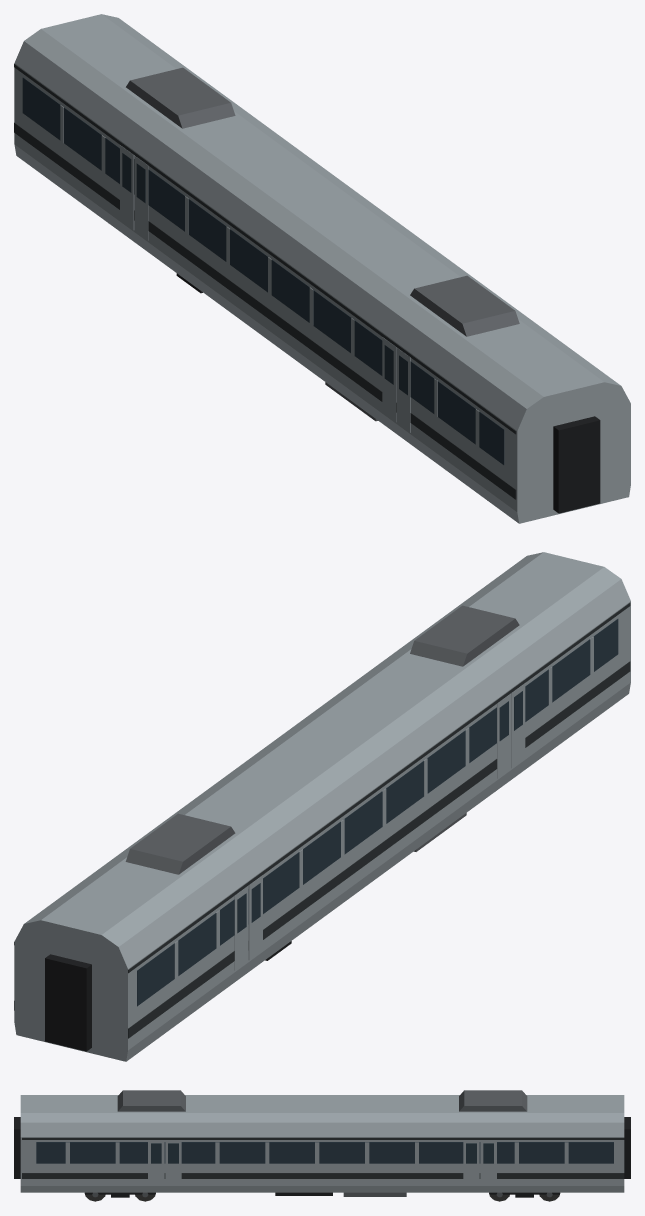
File: carriage_mid.glb
The picture shows the model from 3 angles, top to bottom: view 1: azimuth 30°, elevation 25°; view 2: azimuth 150°, elevation 25°; view 3: azimuth 270°, elevation 25°; orthographic projection. The views are drawn at different scales.
Visible parts, largest first — view 1: CarriageMid, DoorsL; view 2: CarriageMid, DoorsL; view 3: CarriageMid, DoorsR.
Boxes of the visible parts, x1,y1,x2,y2 form: CarriageMid: (14, 14, 630, 523); DoorsL: (120, 145, 410, 432); CarriageMid: (14, 552, 630, 1061); DoorsL: (234, 683, 525, 970); CarriageMid: (14, 1090, 630, 1201); DoorsR: (148, 1140, 496, 1184).
Size of the model in its own units: 3.04 by 4.05 by 23.5.
